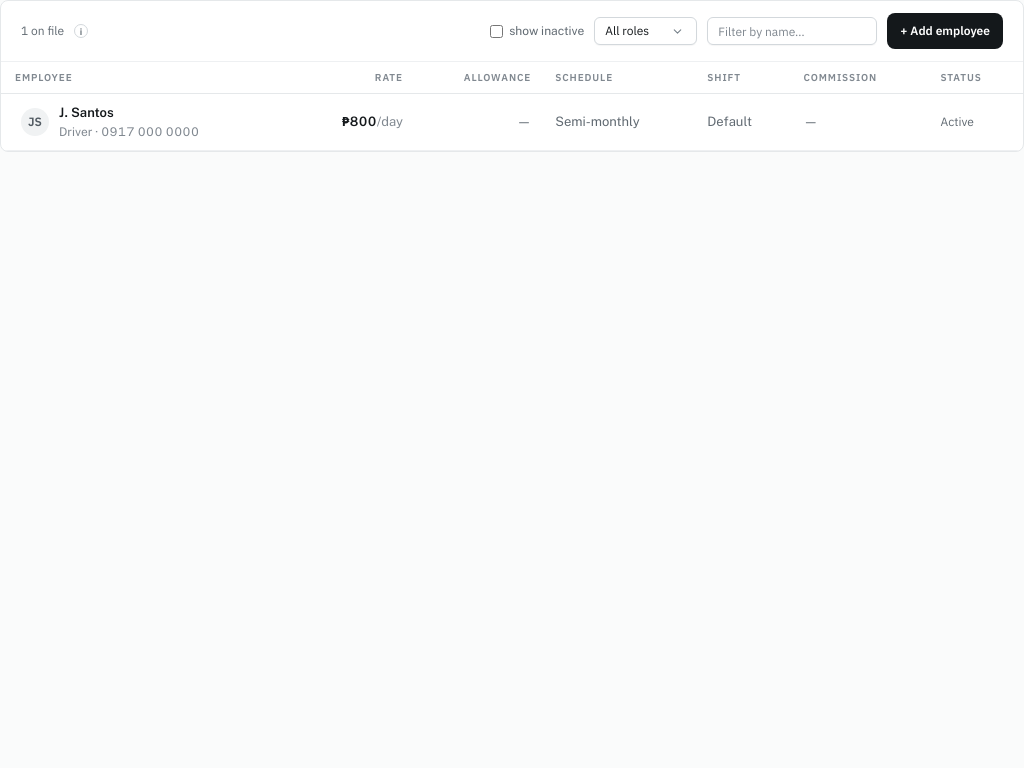
Test: Employee form › confirms a delete in the app, and only once it is allowed
This screenshot has width=1024, height=768.
Click the row "J. Santos". click: (512, 122)
box: [1,94,1023,150]
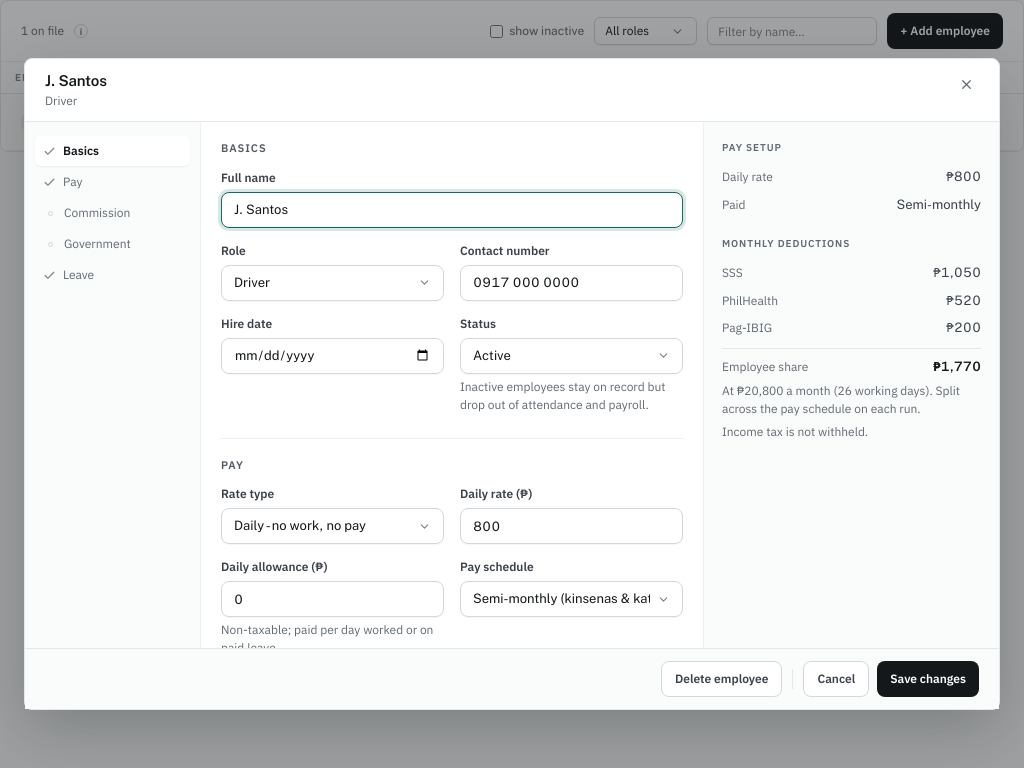
Click the button "Delete employee". click: (722, 679)
box: [661,661,782,697]
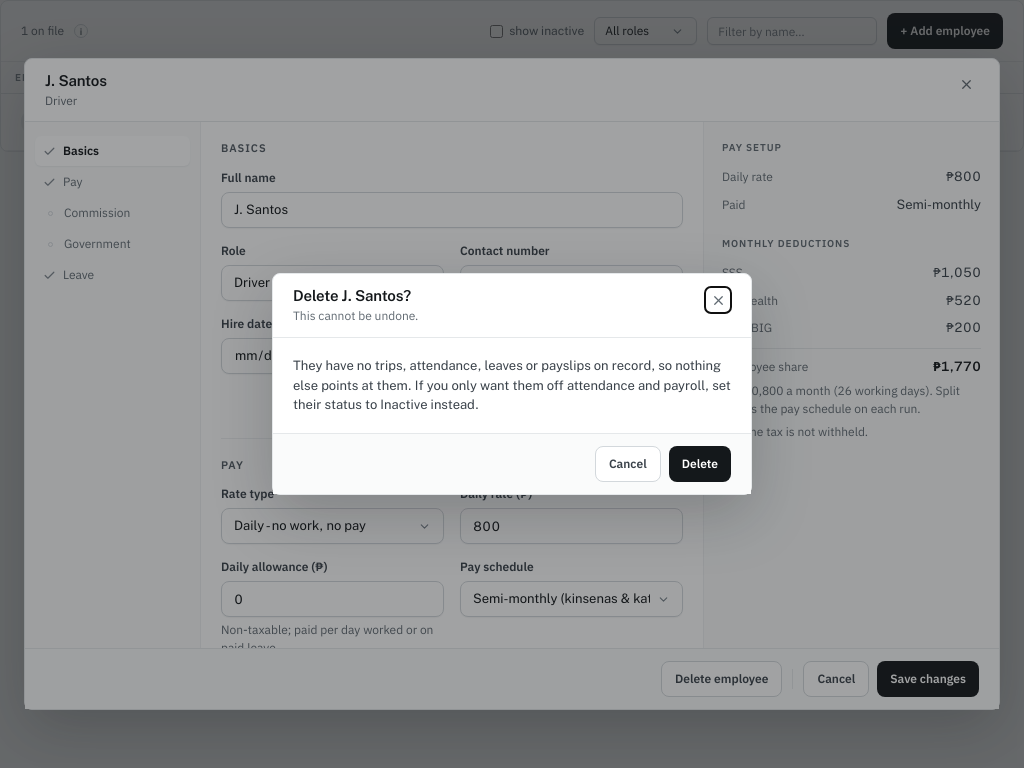
Expected: the heading "Delete J. Santos?" is shown, [293,288,418,306]
